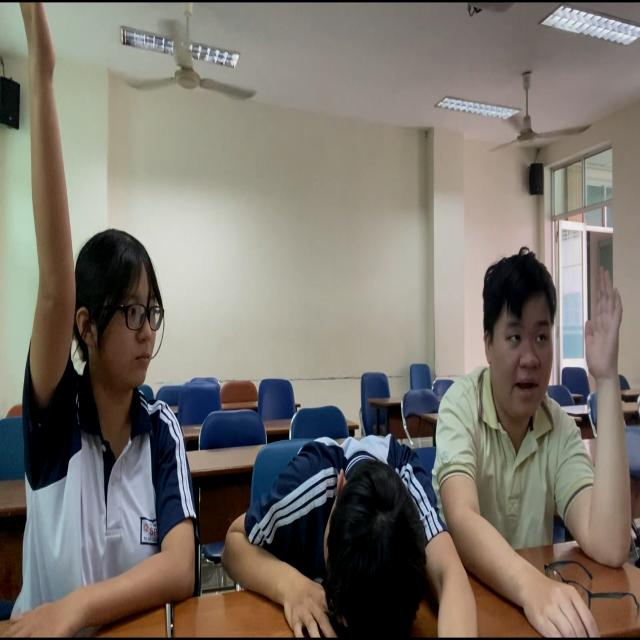raise_hand: (1, 1, 205, 640), (437, 249, 640, 626)
sleep: (235, 425, 473, 640)
